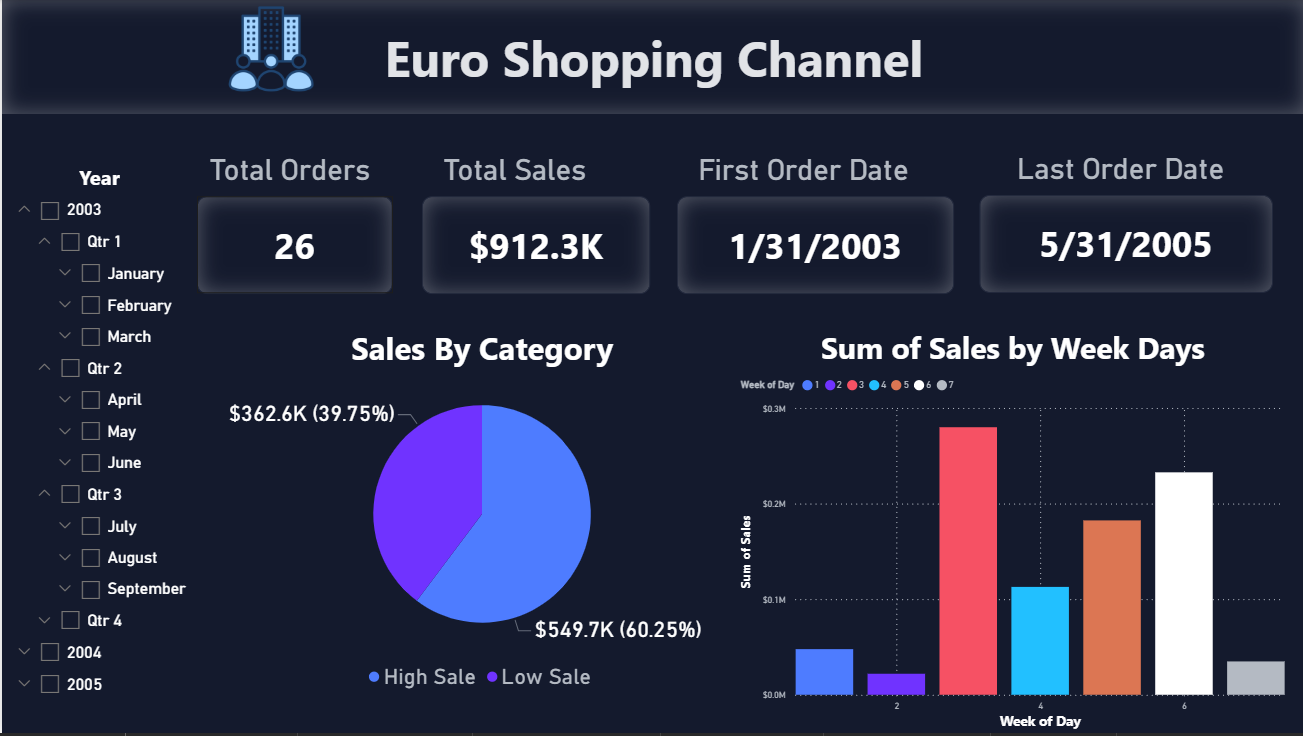

This screenshot's page, from the dashboard's own definition file:
{"tool":"powerbi","page":{"name":"Customer Details","canvas":[1280,720],"ordinal":4},"visuals":[{"type":"card","fields":{"Values":["Min(Sales.Customer Name)"]},"box":[0,0,1280,112],"z":0},{"type":"columnChart","title":"Sum of Sales by Week Days","fields":{"Category":["Sales.Week of Day"],"Y":["Sum(Sales.Sales)"],"Series":["Sales.Week of Day"]},"box":[720,320,544,400],"z":1000},{"type":"pieChart","title":"Sales By Category","fields":{"Category":["Sales.Sales Category"],"Y":["Sum(Sales.Sales)"]},"box":[192,320,560,368],"z":2000},{"type":"image","box":[208,0,112,96],"z":3000},{"type":"slicer","title":"Year","fields":{"Values":["Sales.Order Date.Variation.Date Hierarchy.Year","Sales.Order Date.Variation.Date Hierarchy.Quarter","Sales.Order Date.Variation.Date Hierarchy.Month","Sales.Order Date.Variation.Date Hierarchy.Day"]},"box":[0,160,191.4,560],"z":4000},{"type":"card","fields":{"Values":["Sales.Total Orders"]},"box":[191.5,192.5,192,96],"z":5000},{"type":"card","fields":{"Values":["Sum(Sales.Sales)"]},"box":[412.7,192.5,224,96],"z":6000},{"type":"card","fields":{"Values":["Sales.First Order Date"]},"box":[662.3,192.5,272,96],"z":7000},{"type":"card","fields":{"Values":["Sales.Last Order Date"]},"box":[960,192,288,96],"z":8000},{"type":"textbox","box":[198.5,144.5,176,48],"z":9000},{"type":"textbox","box":[428.7,144.5,192,48],"z":10000},{"type":"textbox","box":[678.3,144.5,240,48],"z":11000},{"type":"textbox","box":[992,144,240,48],"z":12000}]}

Visuals, with their boxes in screenshot pixels (x1, y1, x2, y2), scaled from the page's 1280x720 canvas onto the 1303x736 screenshot:
card - Min(Sales.Customer Name): [0,0,1302,114]
"Sum of Sales by Week Days" columnChart: [733,327,1287,735]
"Sales By Category" pieChart: [195,327,766,703]
image: [212,0,326,98]
"Year" slicer: [0,164,195,735]
card - Sales.Total Orders: [195,197,390,295]
card - Sum(Sales.Sales): [420,197,648,295]
card - Sales.First Order Date: [674,197,951,295]
card - Sales.Last Order Date: [977,196,1270,294]
textbox: [202,148,381,197]
textbox: [436,148,632,197]
textbox: [690,148,935,197]
textbox: [1010,147,1254,196]
